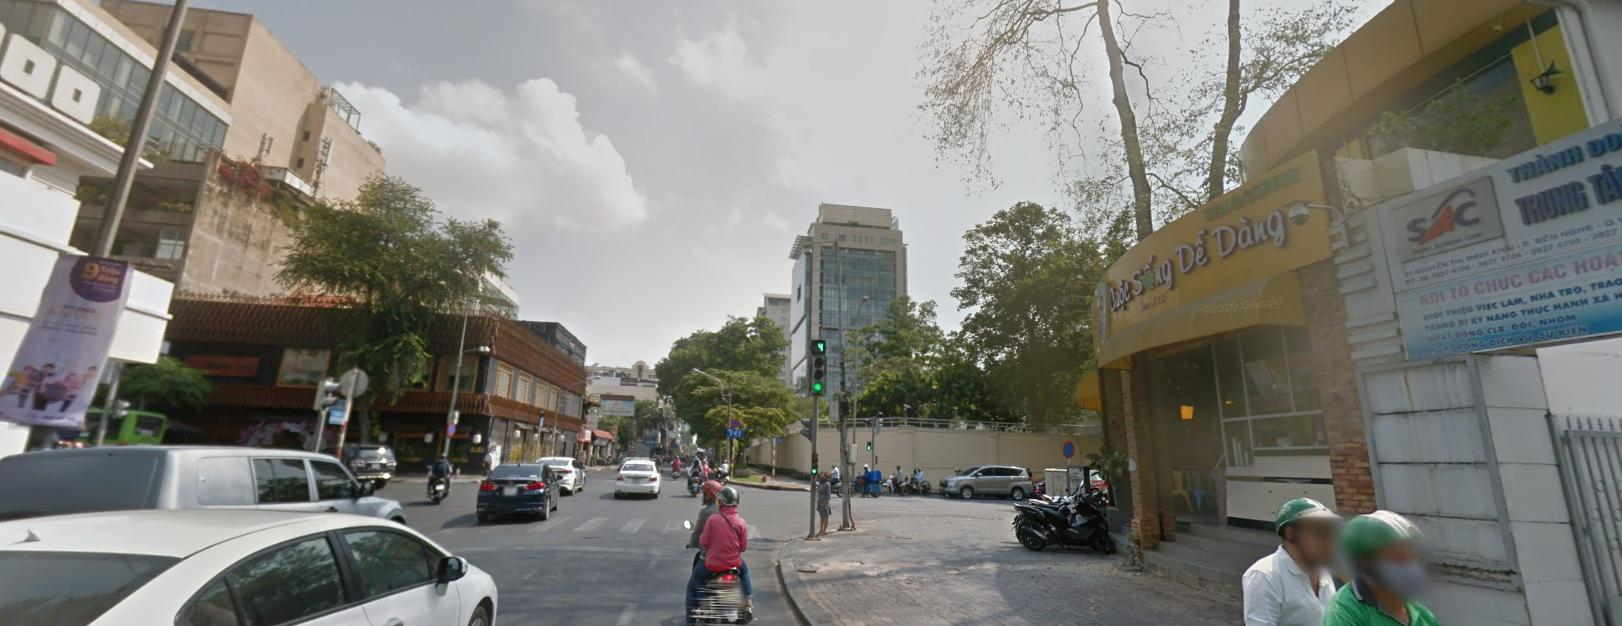Cam dung va do: (1062, 438, 1074, 457), (446, 421, 455, 434), (731, 417, 739, 426)
